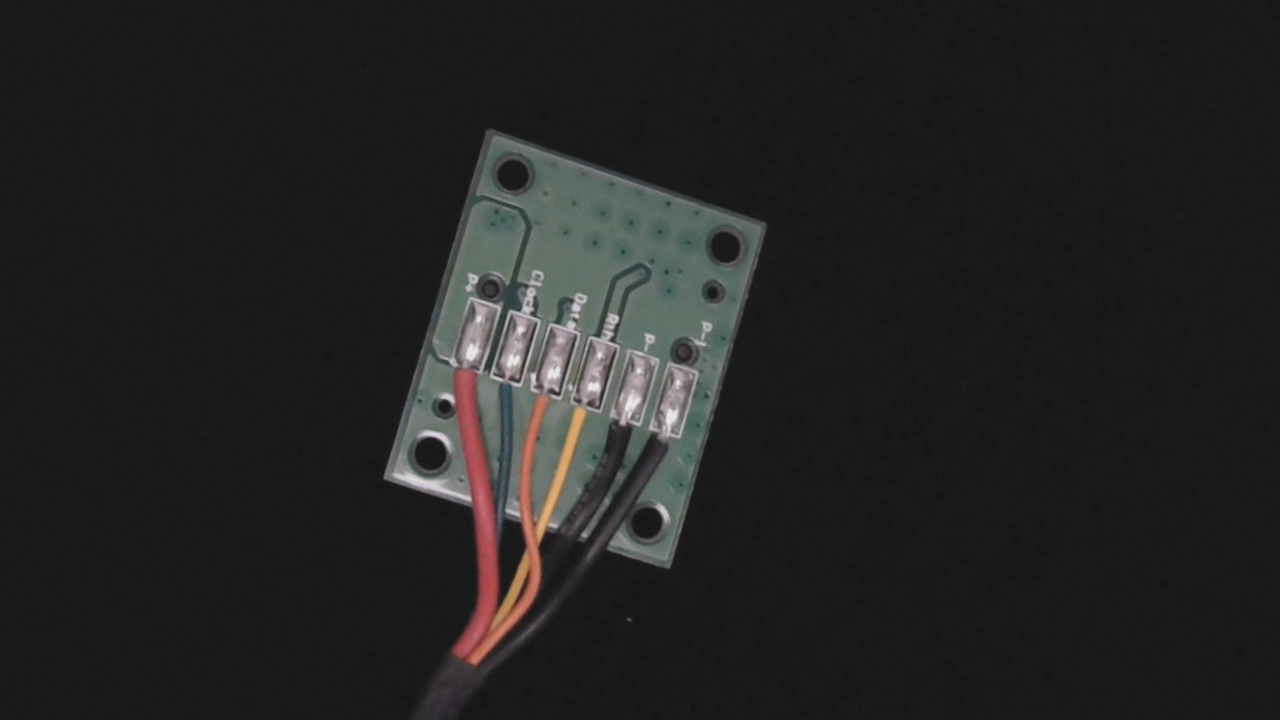Black: (586, 397, 648, 486)
Black1: (631, 413, 689, 496)
Green: (478, 355, 531, 429)
Orange: (511, 370, 569, 458)
Red: (429, 342, 490, 429)
Yellow: (547, 383, 609, 474)
